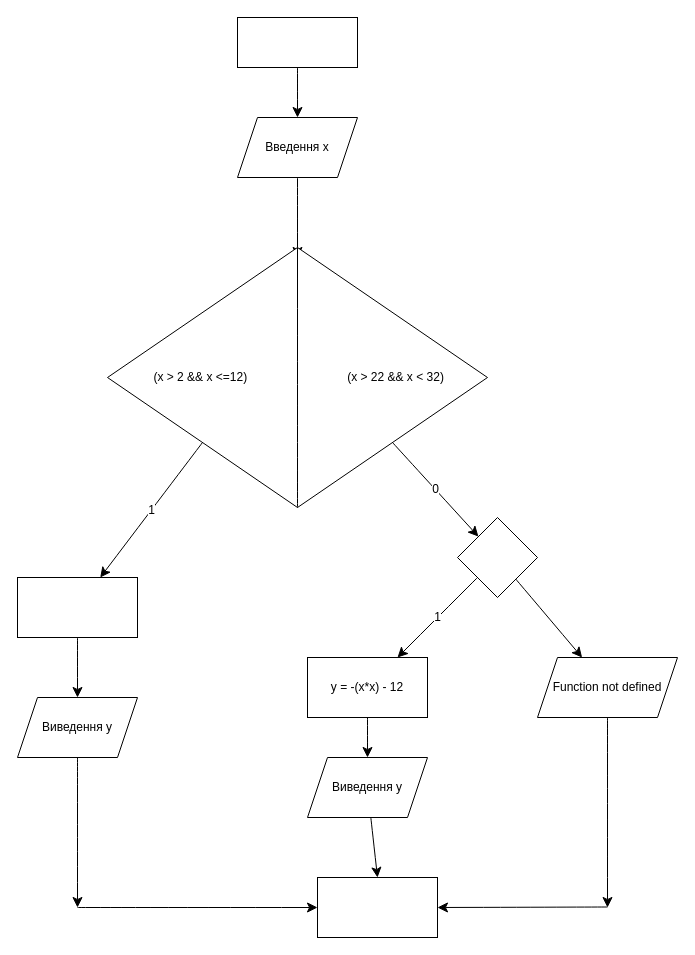
The diagram is 695 pixels wide and 955 high, and some of its shapes have lost their labels. Here are the shapes that lost their labels. From the top down, the centre of each, then its label:
point 297,42: Початок
point 497,557: x <= 0
point 77,607: y = -9*x*x*x + 5*x*x
